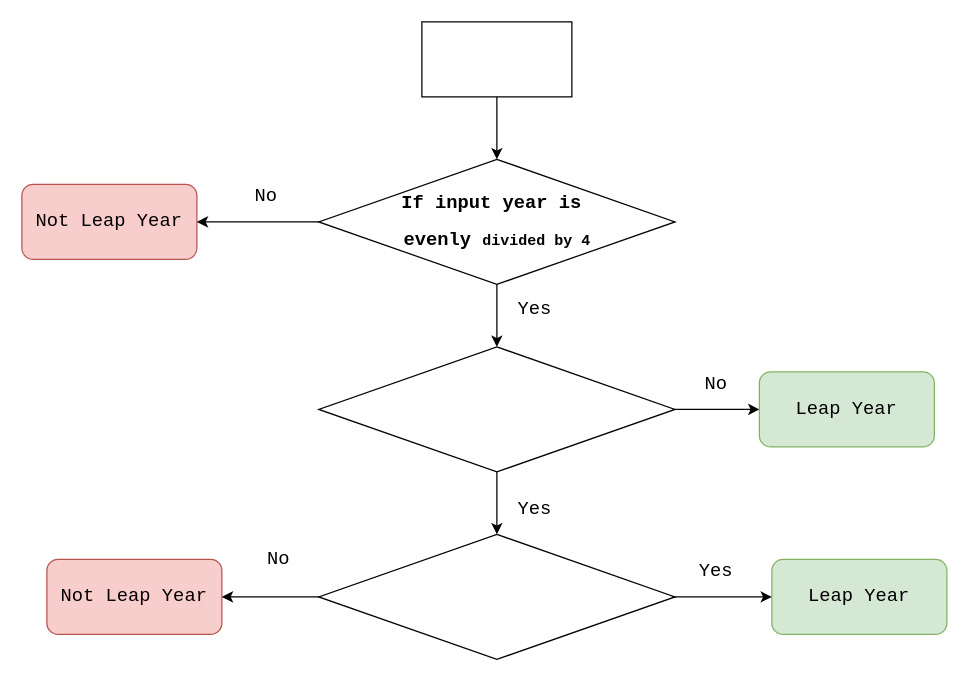
The diagram is 969 pixels wide and 681 high, and some of its shapes have lost their labels. Here are the shapes that lost their labels. From the top down, the centre of each, then its label:
At point (496, 59): "Enter a year".
At point (496, 409): "If input year is evenly divided by 100".
At point (496, 596): "If input year is evenly divided by 400".
